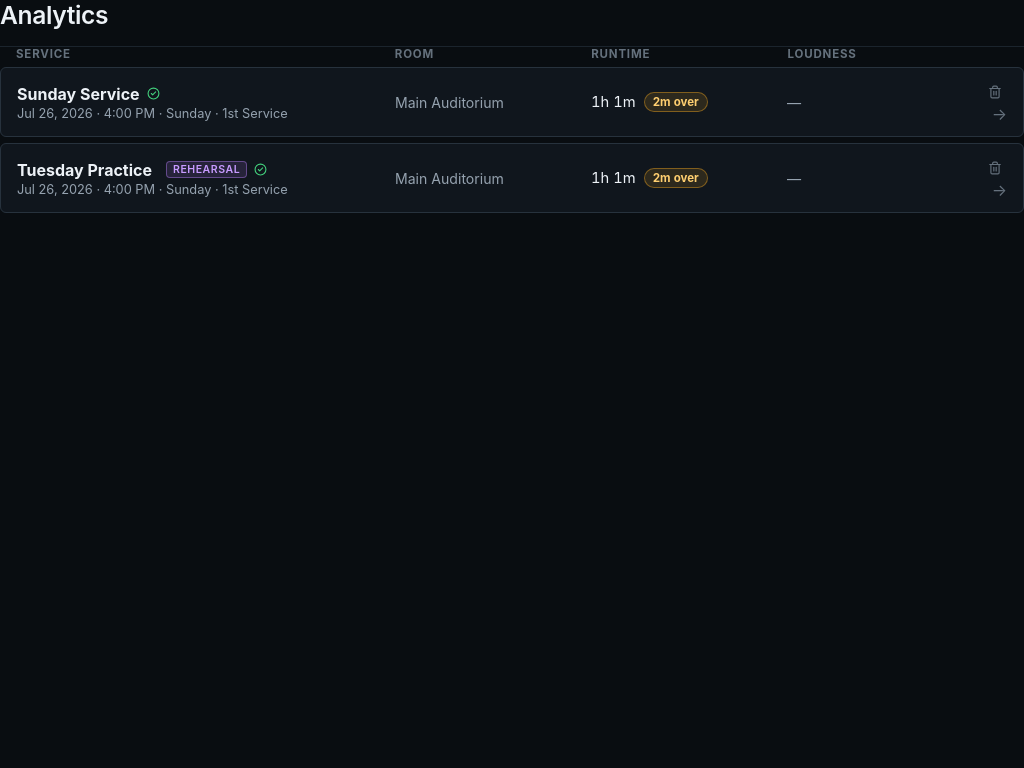
Test case: Analytics › deletes a run after confirmation and drops the row
What coordinates should you click on to do the following:
click the button named "Delete Tuesday Practice"
I would click on:
 (995, 168)
Its box is left=983, top=156, right=1007, bottom=180.
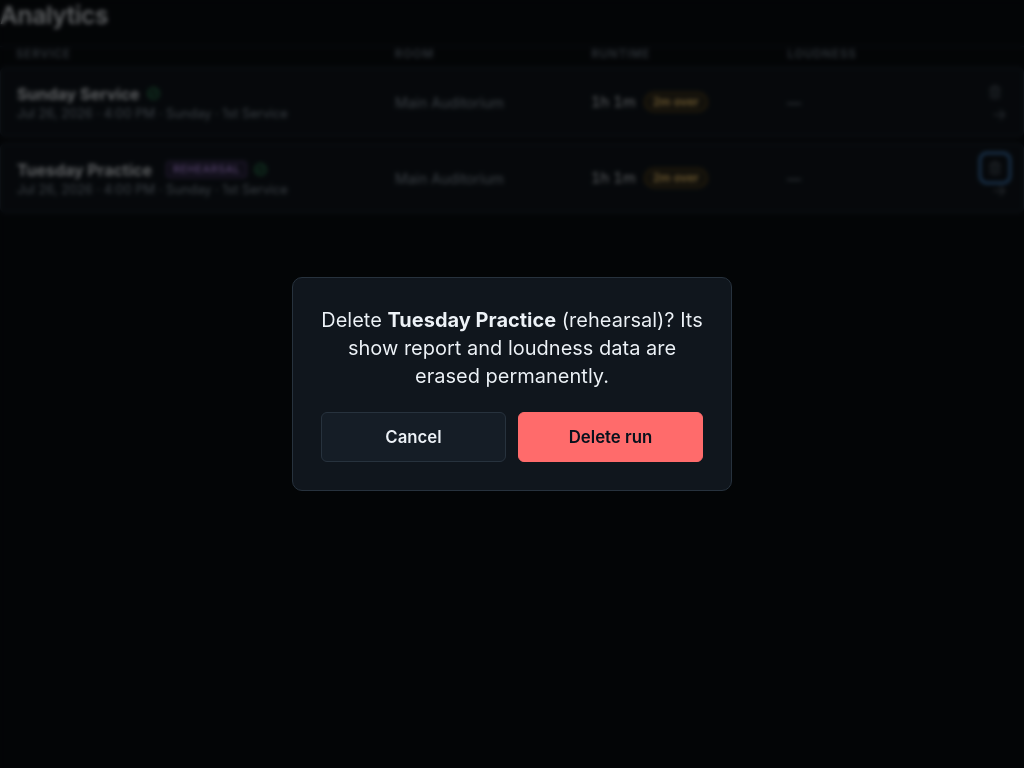
Check: the text "erased permanently" is shown, box left=348, top=308, right=703, bottom=388
What coordinates should you click on to do the following:
click the button "Delete run"
I would click on:
 (610, 437)
Its box is left=518, top=412, right=703, bottom=462.
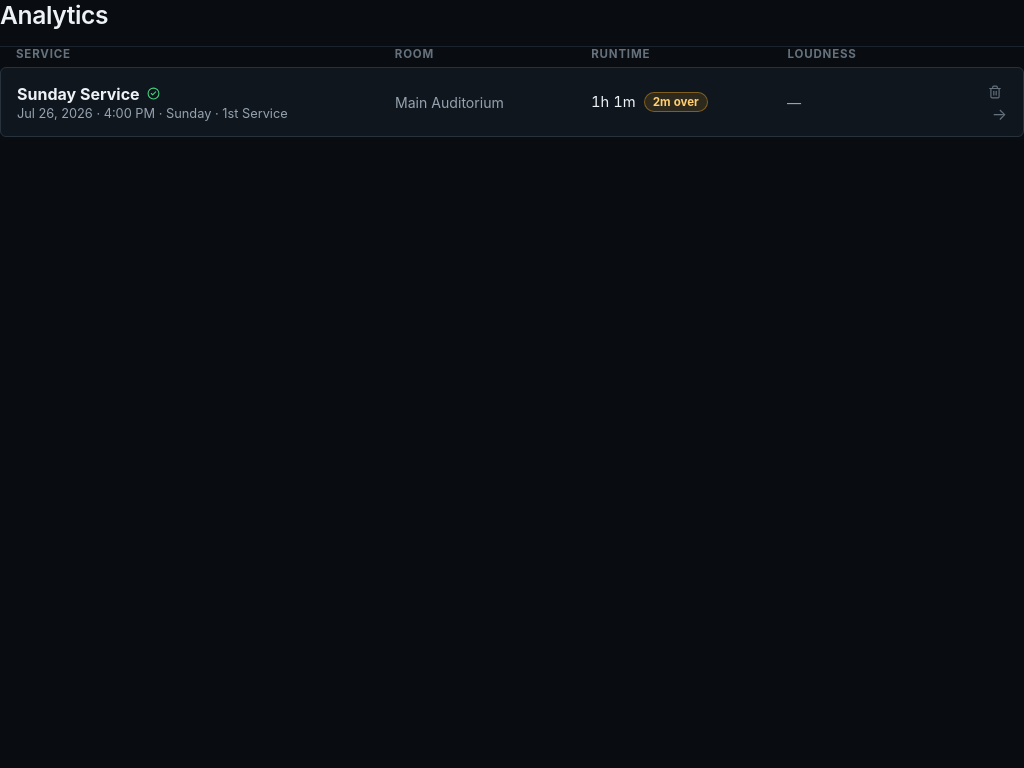
Check: the text "Sunday Service" is shown, box left=17, top=84, right=160, bottom=104
Check: the text "Tuesday Practice" is gone
